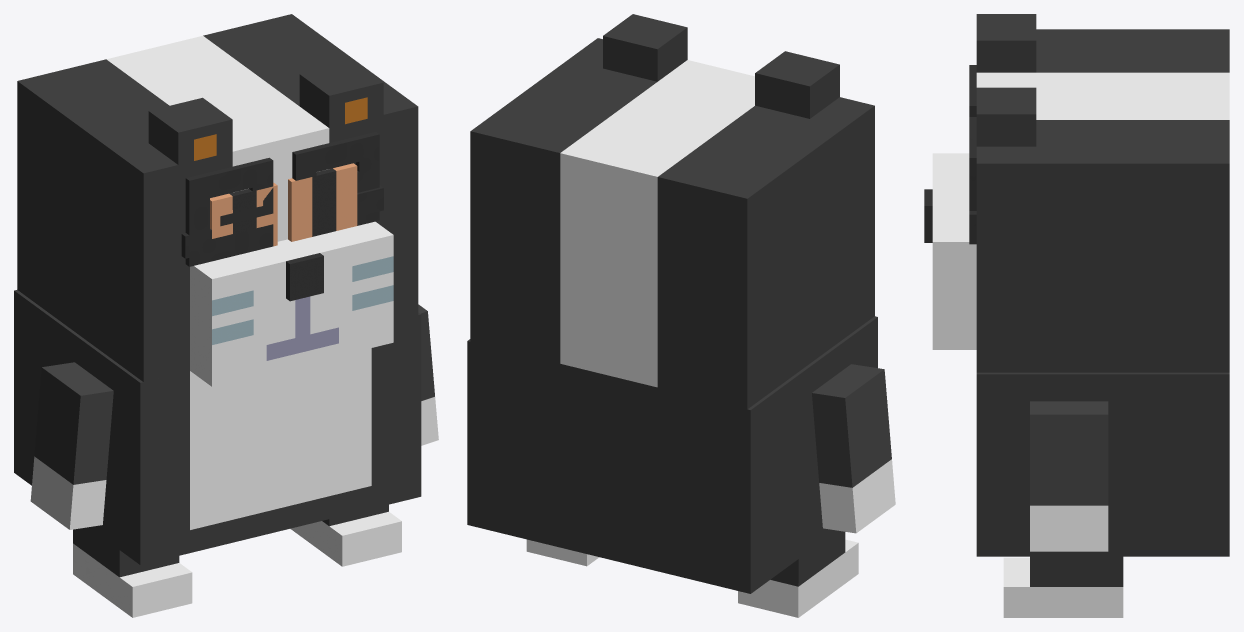
The picture shows the model from 3 angles, left to right: view 1: azimuth 30°, elevation 25°; view 2: azimuth 150°, elevation 25°; view 3: azimuth 270°, elevation 25°; orthographic projection.
Parts seen in each view (by area): view 1: Ch_35_Head, Ch_35, Ch_35_Hand_L, Ch_35_Eye_01, Ch_35_Leg_L, Ch_35_Eye_03_L, Ch_35_Leg_R, Ch_35_Eye_03_R, Ch_35_Hand_R, Ch_35_Eye_02; view 2: Ch_35_Head, Ch_35, Ch_35_Hand_L, Ch_35_Leg_L, Ch_35_Leg_R; view 3: Ch_35_Head, Ch_35, Ch_35_Hand_R, Ch_35_Leg_R, Ch_35_Eye_03_R.
Part boxes in pixels (left/top/right/bottom): Ch_35_Head: left=17, top=14, right=418, bottom=386; Ch_35: left=14, top=290, right=421, bottom=564; Ch_35_Hand_L: left=30, top=362, right=113, bottom=529; Ch_35_Eye_01: left=210, top=163, right=357, bottom=246; Ch_35_Leg_L: left=73, top=527, right=192, bottom=617; Ch_35_Eye_03_L: left=185, top=157, right=273, bottom=266; Ch_35_Leg_R: left=290, top=504, right=401, bottom=566; Ch_35_Eye_03_R: left=292, top=131, right=379, bottom=225; Ch_35_Hand_R: left=418, top=304, right=438, bottom=445; Ch_35_Eye_02: left=181, top=185, right=383, bottom=258; Ch_35_Head: left=470, top=14, right=874, bottom=409; Ch_35: left=467, top=316, right=877, bottom=593; Ch_35_Hand_L: left=812, top=364, right=895, bottom=533; Ch_35_Leg_L: left=738, top=530, right=858, bottom=617; Ch_35_Leg_R: left=526, top=539, right=599, bottom=566; Ch_35_Head: left=924, top=14, right=1229, bottom=372; Ch_35: left=976, top=372, right=1229, bottom=556; Ch_35_Hand_R: left=1030, top=401, right=1108, bottom=551; Ch_35_Leg_R: left=1003, top=556, right=1123, bottom=617; Ch_35_Eye_03_R: left=969, top=117, right=976, bottom=244.
Bounding box in the file's own units: 7.36 × 9.29 × 5.27.
